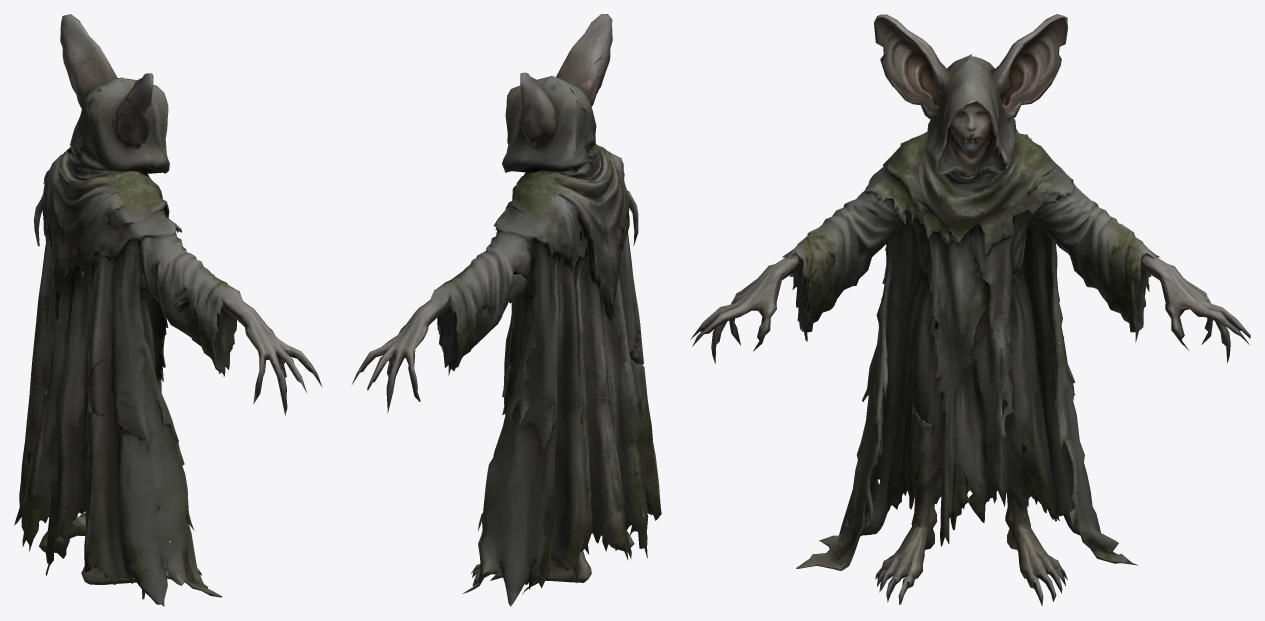
Rendered from listener.glb.
3 renders of one model, left to right at view 1: azimuth 30°, elevation 25°; view 2: azimuth 150°, elevation 25°; view 3: azimuth 270°, elevation 25°, orthographic. The views are drawn at different scales.
Parts seen in each view (by area): view 1: tripo_node_16479e7c-e253-4840-be6d-eb0a350cd880; view 2: tripo_node_16479e7c-e253-4840-be6d-eb0a350cd880; view 3: tripo_node_16479e7c-e253-4840-be6d-eb0a350cd880.
Part boxes in pixels (left/top/right/bottom): tripo_node_16479e7c-e253-4840-be6d-eb0a350cd880: left=14, top=14, right=322, bottom=606; tripo_node_16479e7c-e253-4840-be6d-eb0a350cd880: left=351, top=14, right=661, bottom=606; tripo_node_16479e7c-e253-4840-be6d-eb0a350cd880: left=690, top=14, right=1250, bottom=606.
Bounding box in the file's own units: 0.3189 × 1 × 0.9061.
1 material, 1 textured.
